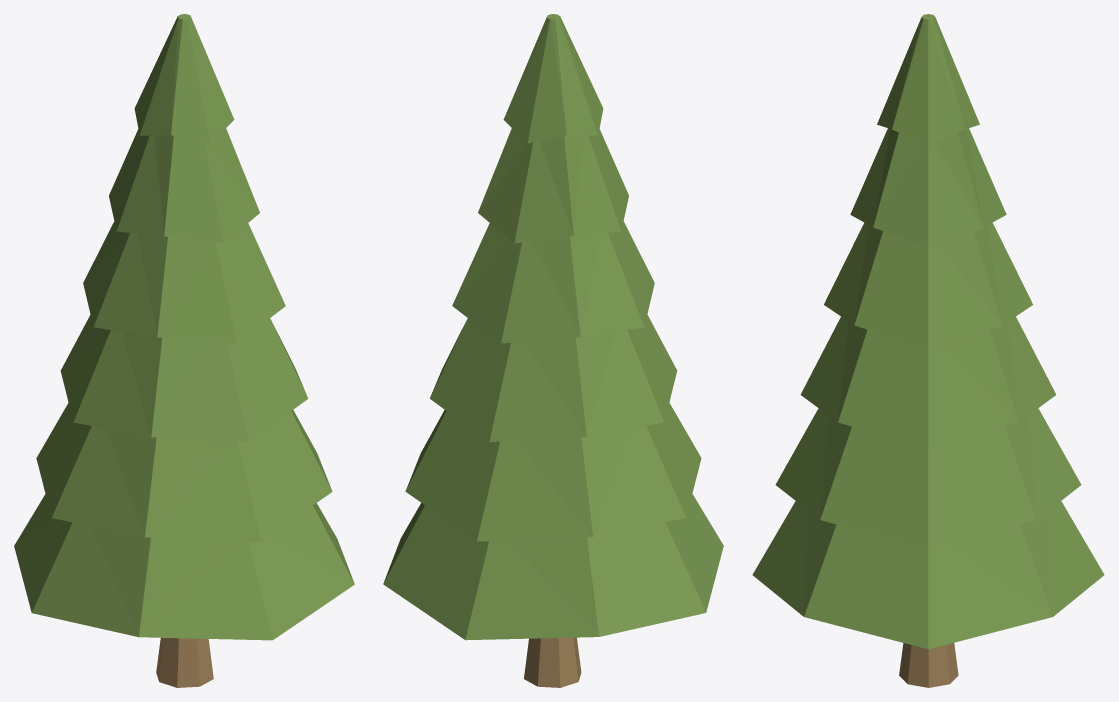
Rendered from tree.glb.
3 views of the same model, side by side, from view 1: azimuth 30°, elevation 25°; view 2: azimuth 150°, elevation 25°; view 3: azimuth 270°, elevation 25° (orthographic).
Parts seen in each view (by area): view 1: Material2 (×2); view 2: Material2 (×2); view 3: Material2 (×2).
Boxes of the visible parts, bbox=[...] form: Material2 (×2): bbox=[14, 14, 354, 687]; Material2 (×2): bbox=[383, 14, 723, 687]; Material2 (×2): bbox=[752, 14, 1104, 687].
Size of the model in its own units: 105 by 216 by 105.
